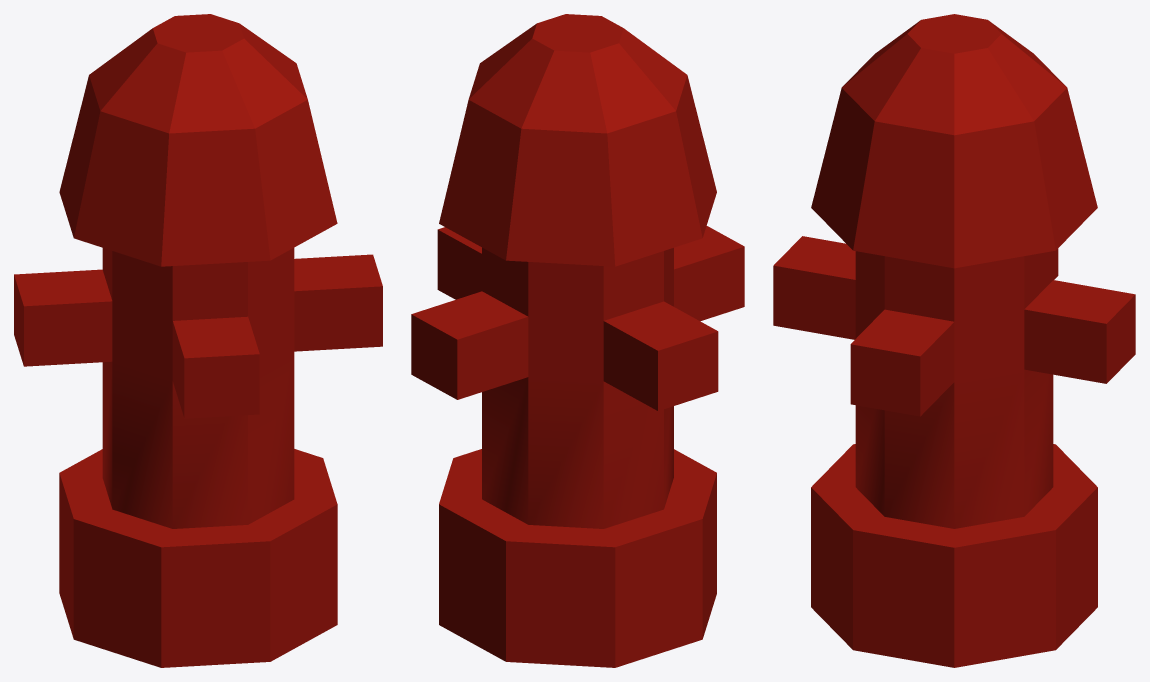
The model's file is brandkraan.FBX.
The picture shows the model from 3 angles, left to right: view 1: azimuth 30°, elevation 25°; view 2: azimuth 150°, elevation 25°; view 3: azimuth 270°, elevation 25°; orthographic projection.
Visible parts, largest first — view 1: Cylinder001; view 2: Cylinder001; view 3: Cylinder001.
Boxes of the visible parts, x1,y1,x2,y2 form: Cylinder001: [14, 14, 382, 667]; Cylinder001: [411, 14, 744, 667]; Cylinder001: [773, 14, 1135, 667].
Size of the model in its own units: 4.97 by 8.69 by 4.97.
1 material, 1 textured.
